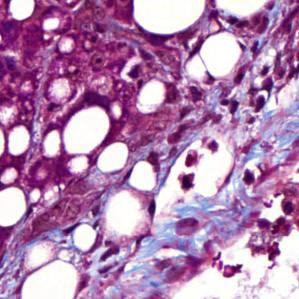steatosis: (61, 108, 114, 157)
